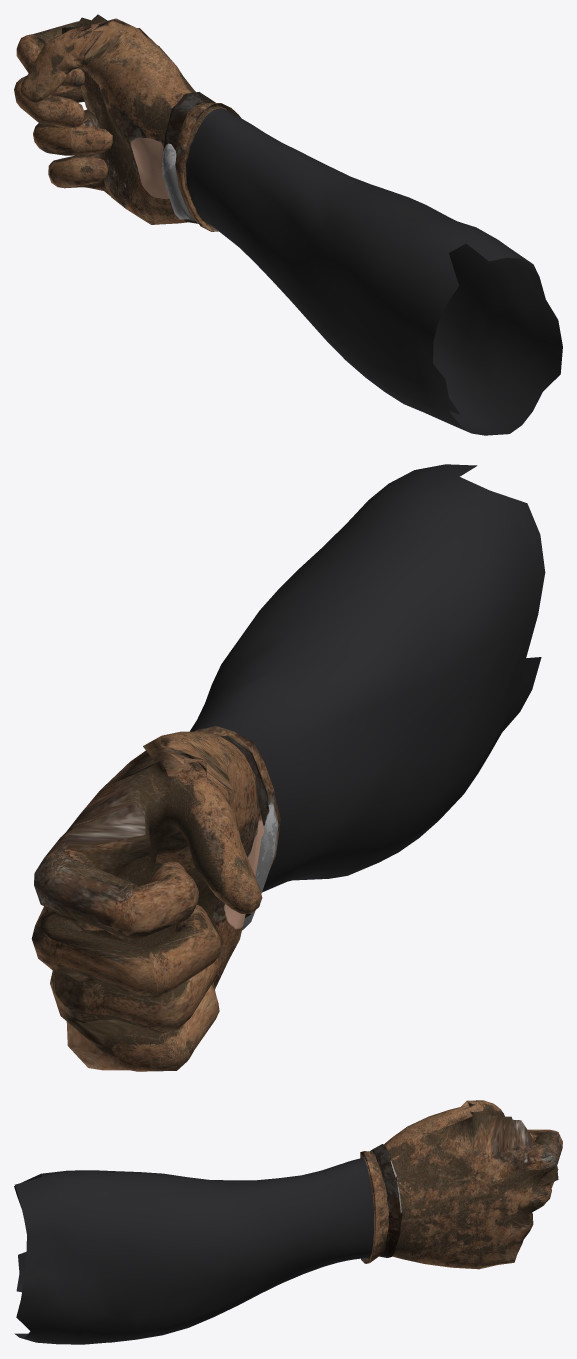
File: FP_Glove_Hold_R.gltf
The picture shows the model from 3 angles, top to bottom: view 1: azimuth 30°, elevation 25°; view 2: azimuth 150°, elevation 25°; view 3: azimuth 270°, elevation 25°; orthographic projection. The views are drawn at different scales.
Visible parts, largest first — view 1: FP_Glove_Hold_R_Sleeve, FP_Glove_Hold_R_Hand; view 2: FP_Glove_Hold_R_Sleeve, FP_Glove_Hold_R_Hand; view 3: FP_Glove_Hold_R_Sleeve, FP_Glove_Hold_R_Hand.
Part boxes in pixels (x1,y1,x2,y2): FP_Glove_Hold_R_Sleeve: (186,108,562,435); FP_Glove_Hold_R_Hand: (14,14,241,231); FP_Glove_Hold_R_Sleeve: (190,464,545,892); FP_Glove_Hold_R_Hand: (31,726,280,1071); FP_Glove_Hold_R_Sleeve: (14,1158,373,1344); FP_Glove_Hold_R_Hand: (360,1100,562,1269).
Bounding box in the file's own units: 0.1569 × 0.1515 × 0.3864.
Materials: 2 (1 with a texture image).
